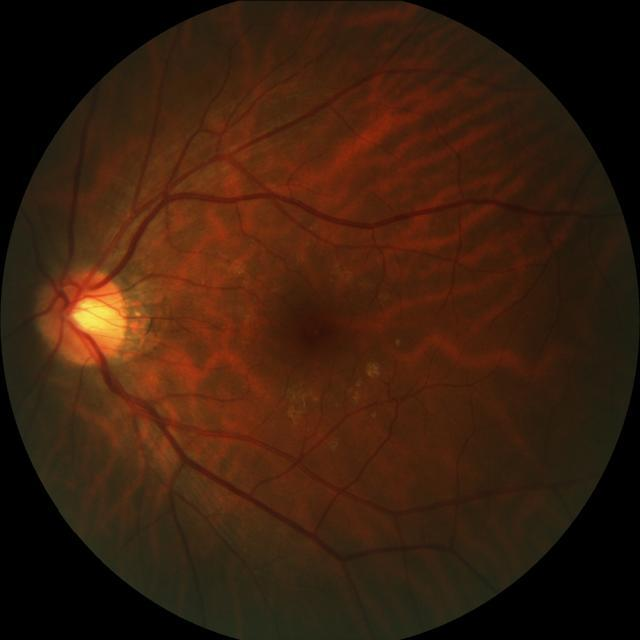OC: (72, 295, 114, 333)
OD: (42, 264, 130, 362)
